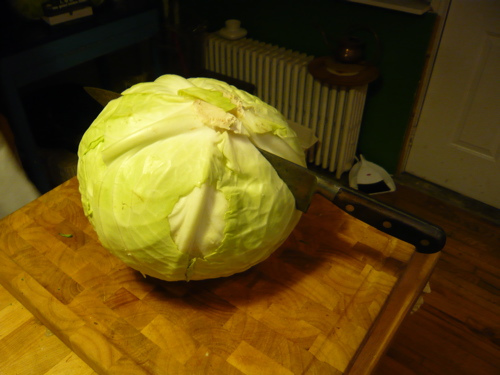cabbage: (79, 73, 315, 283)
